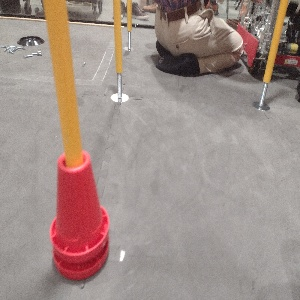Red_2: (46, 152, 110, 279)
